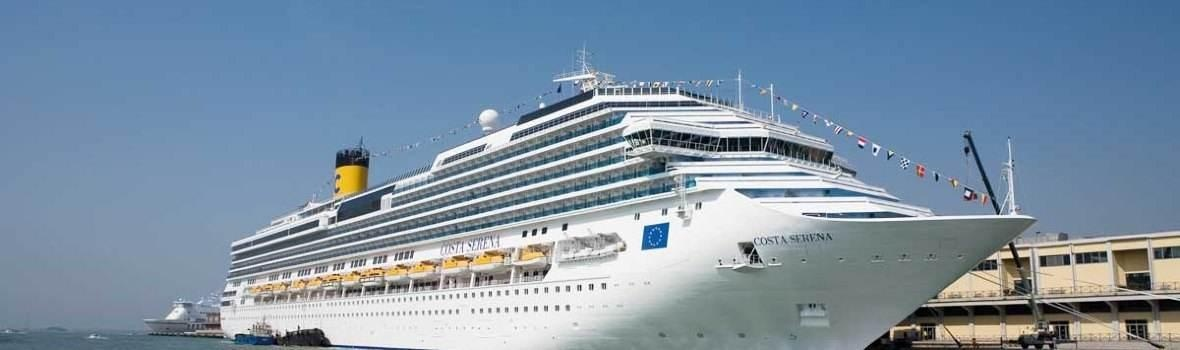youlun: (223, 57, 1043, 343), (138, 290, 240, 342)
